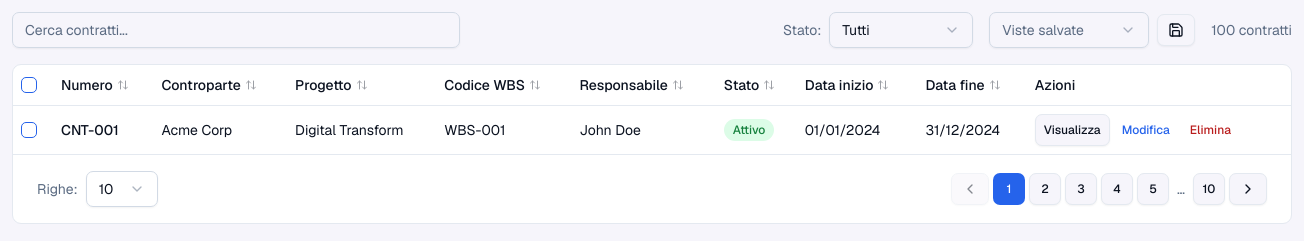
Scenario: ContractTable › shows middle double-ellipsis pattern when on a middle page
The image size is (1304, 241).
Step 1. Click the button named "Vai a pagina 5" → [1153, 188], box [1137,172,1169,204]
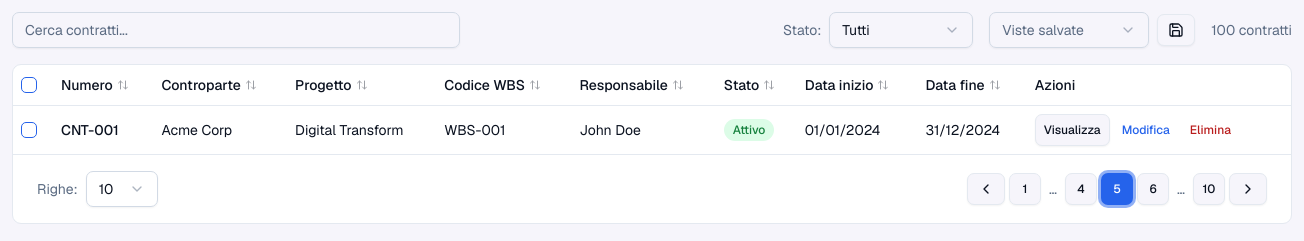
Expected: the button named "Vai a pagina 4" is shown, [1065,172,1097,204]
Result: the text "…" is shown 2 times at [1049,180,1057,198]; [1177,180,1185,198]
Result: the button named "Vai a pagina 6" is shown at [1137,172,1169,204]
